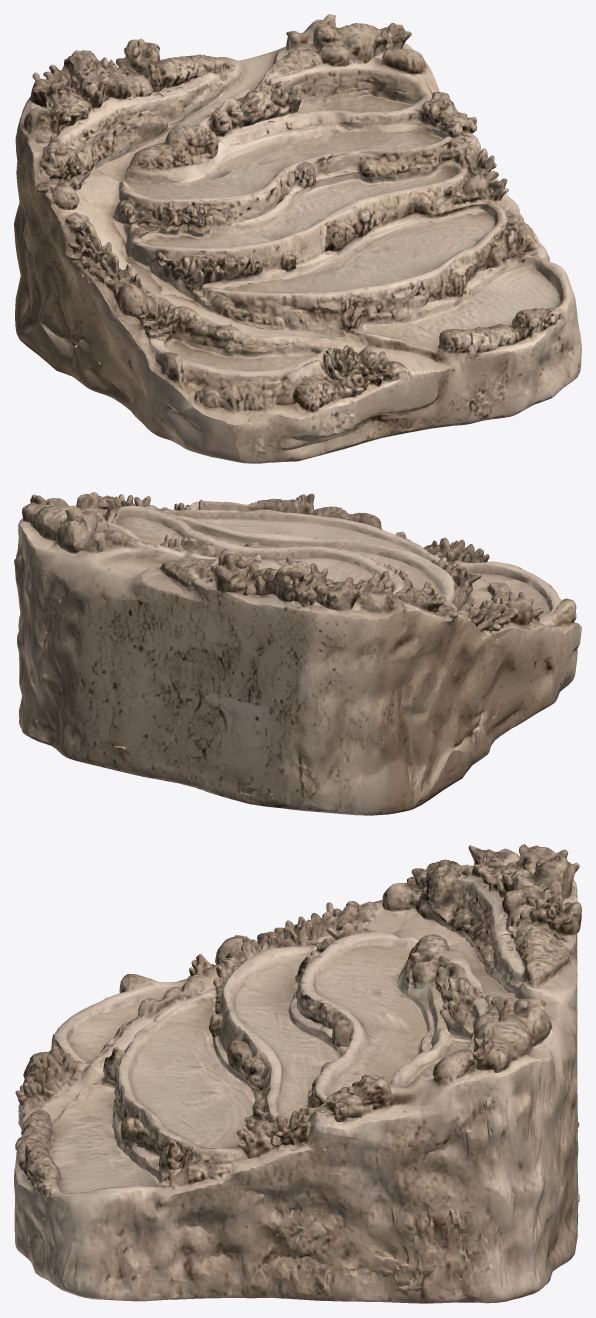
File: terrace-test.min.glb
3 renders of one model, top to bottom at view 1: azimuth 30°, elevation 25°; view 2: azimuth 150°, elevation 25°; view 3: azimuth 270°, elevation 25°, orthographic. The views are drawn at different scales.
Visible parts, largest first — view 1: geometry_0; view 2: geometry_0; view 3: geometry_0.
Part boxes in pixels (x1,y1,x2,y2): geometry_0: [14, 14, 581, 463]; geometry_0: [14, 492, 581, 815]; geometry_0: [14, 844, 581, 1303].
Bounding box in the file's own units: 0.3199 × 0.1797 × 0.3274.
1 material, 1 textured.
